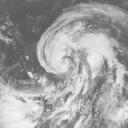cyclone: (37, 1, 122, 81)
